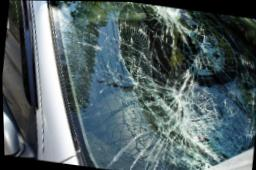Windshield: (50, 1, 256, 170)
